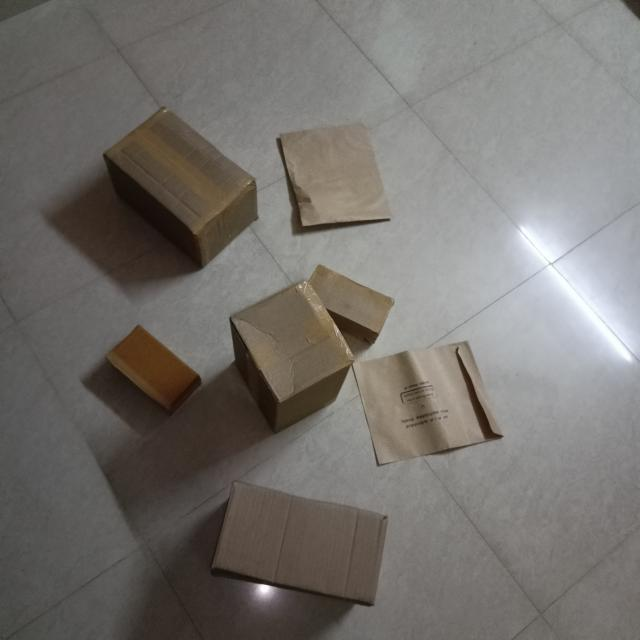box: (213, 485, 388, 604), (352, 341, 507, 465), (110, 108, 255, 232), (230, 278, 355, 400), (282, 122, 394, 228), (108, 327, 198, 410)
